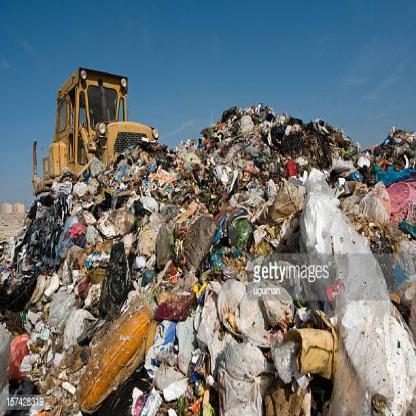Garbage: (161, 102, 416, 416), (8, 169, 160, 400)
